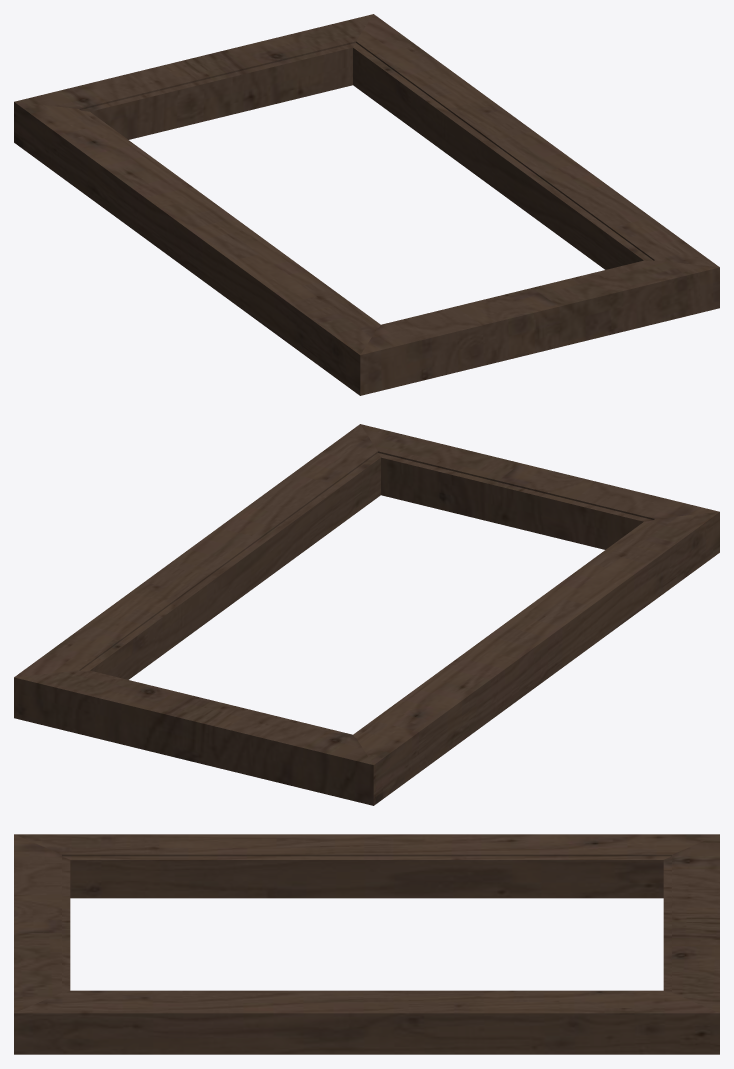
File: Raam-donkerbruin.dae
The picture shows the model from 3 angles, top to bottom: view 1: azimuth 30°, elevation 25°; view 2: azimuth 150°, elevation 25°; view 3: azimuth 270°, elevation 25°; orthographic projection.
Visible parts, largest first — view 1: Raam_geo; view 2: Raam_geo; view 3: Raam_geo.
Boxes of the visible parts, bbox=[...] form: Raam_geo: bbox=[14, 14, 719, 395]; Raam_geo: bbox=[14, 424, 719, 805]; Raam_geo: bbox=[14, 834, 719, 1054].
Size of the model in its own units: 30 by 3.25 by 50.
Materials: 1 (1 with a texture image).
